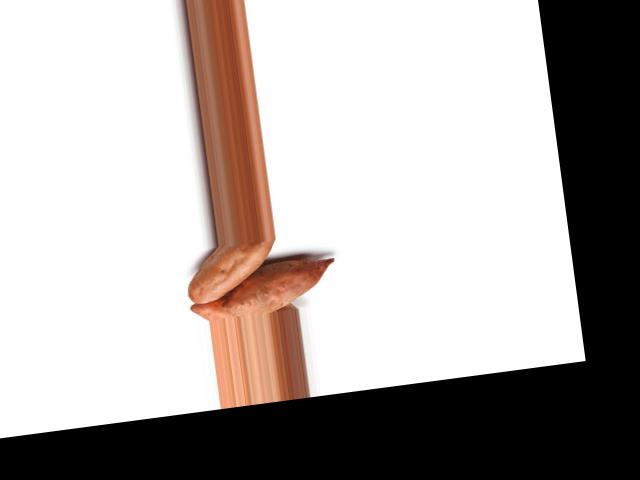sweet_potato: (182, 237, 287, 304)
